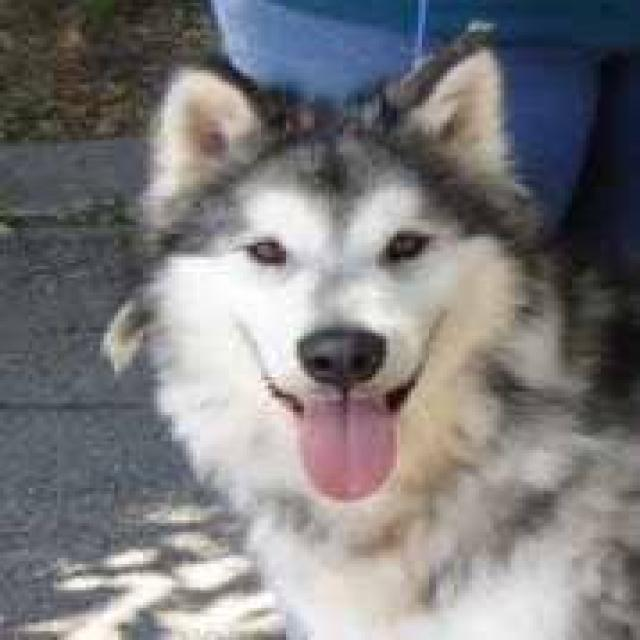dog: (100, 21, 637, 637)
